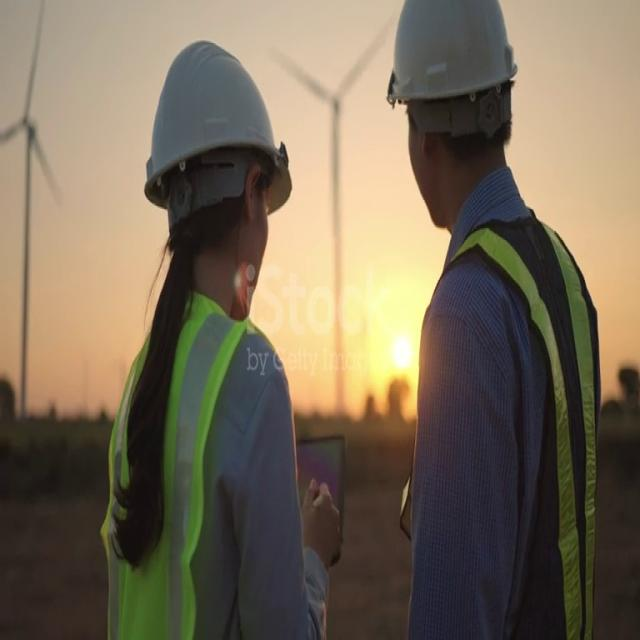capacete: (123, 24, 294, 239), (380, 3, 530, 153)
